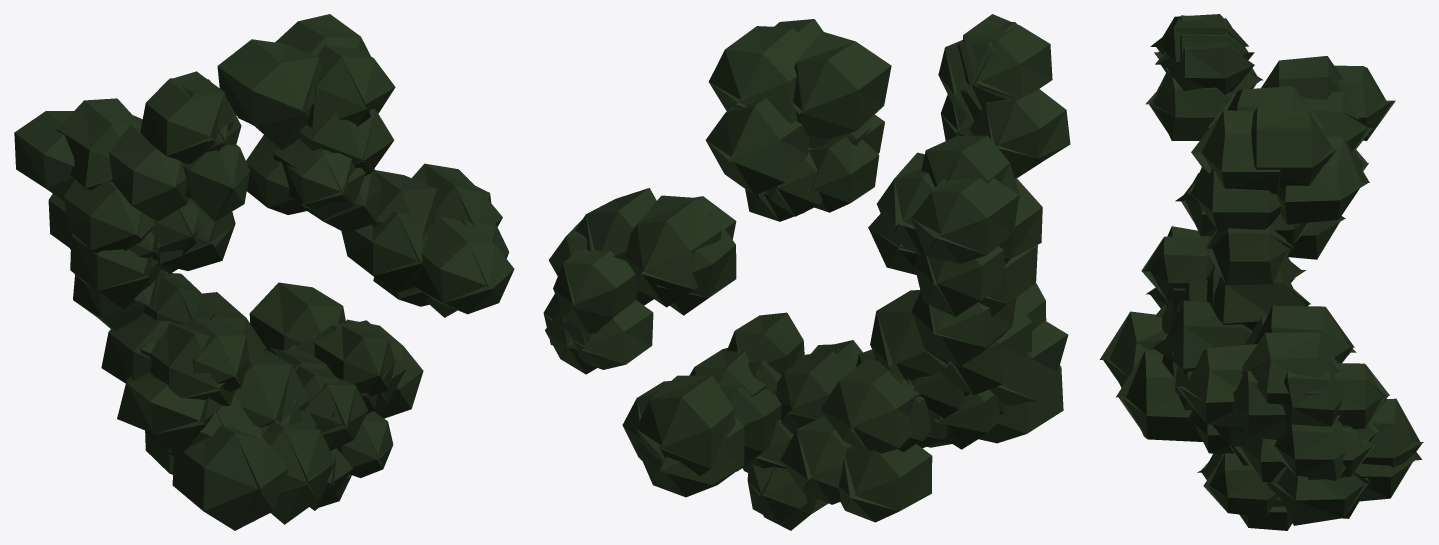
The model's file is tree_m10_far.obj.
3 renders of one model, left to right at view 1: azimuth 30°, elevation 25°; view 2: azimuth 150°, elevation 25°; view 3: azimuth 270°, elevation 25°, orthographic. The views are drawn at different scales.
Size of the model in its own units: 1.56 by 1.62 by 1.09.
Materials: 1 (1 with a texture image).
